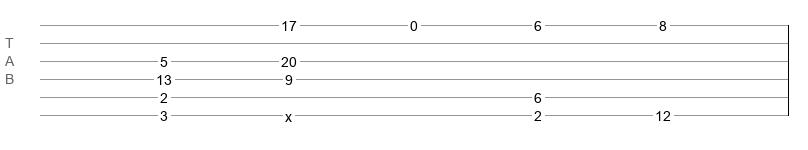0: (410, 18, 418, 28)
12: (655, 108, 671, 118)
13: (156, 72, 172, 82)
17: (281, 18, 297, 28)
2: (160, 90, 168, 100), (534, 108, 542, 118)
20: (281, 54, 297, 64)
3: (160, 108, 168, 118)
5: (160, 54, 168, 64)
6: (534, 18, 542, 28), (534, 90, 542, 100)
8: (659, 18, 667, 28)
9: (285, 72, 293, 82)
x: (285, 109, 292, 117)
